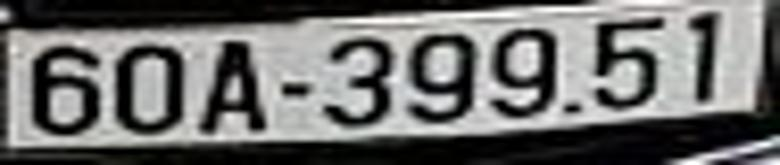-: (279, 82, 310, 99)
.: (564, 99, 582, 115)
0: (117, 45, 185, 138)
1: (686, 12, 718, 106)
3: (330, 38, 390, 127)
5: (597, 22, 665, 110)
6: (29, 43, 101, 137)
9: (492, 28, 556, 118), (409, 35, 473, 123)
A: (204, 39, 269, 135)
